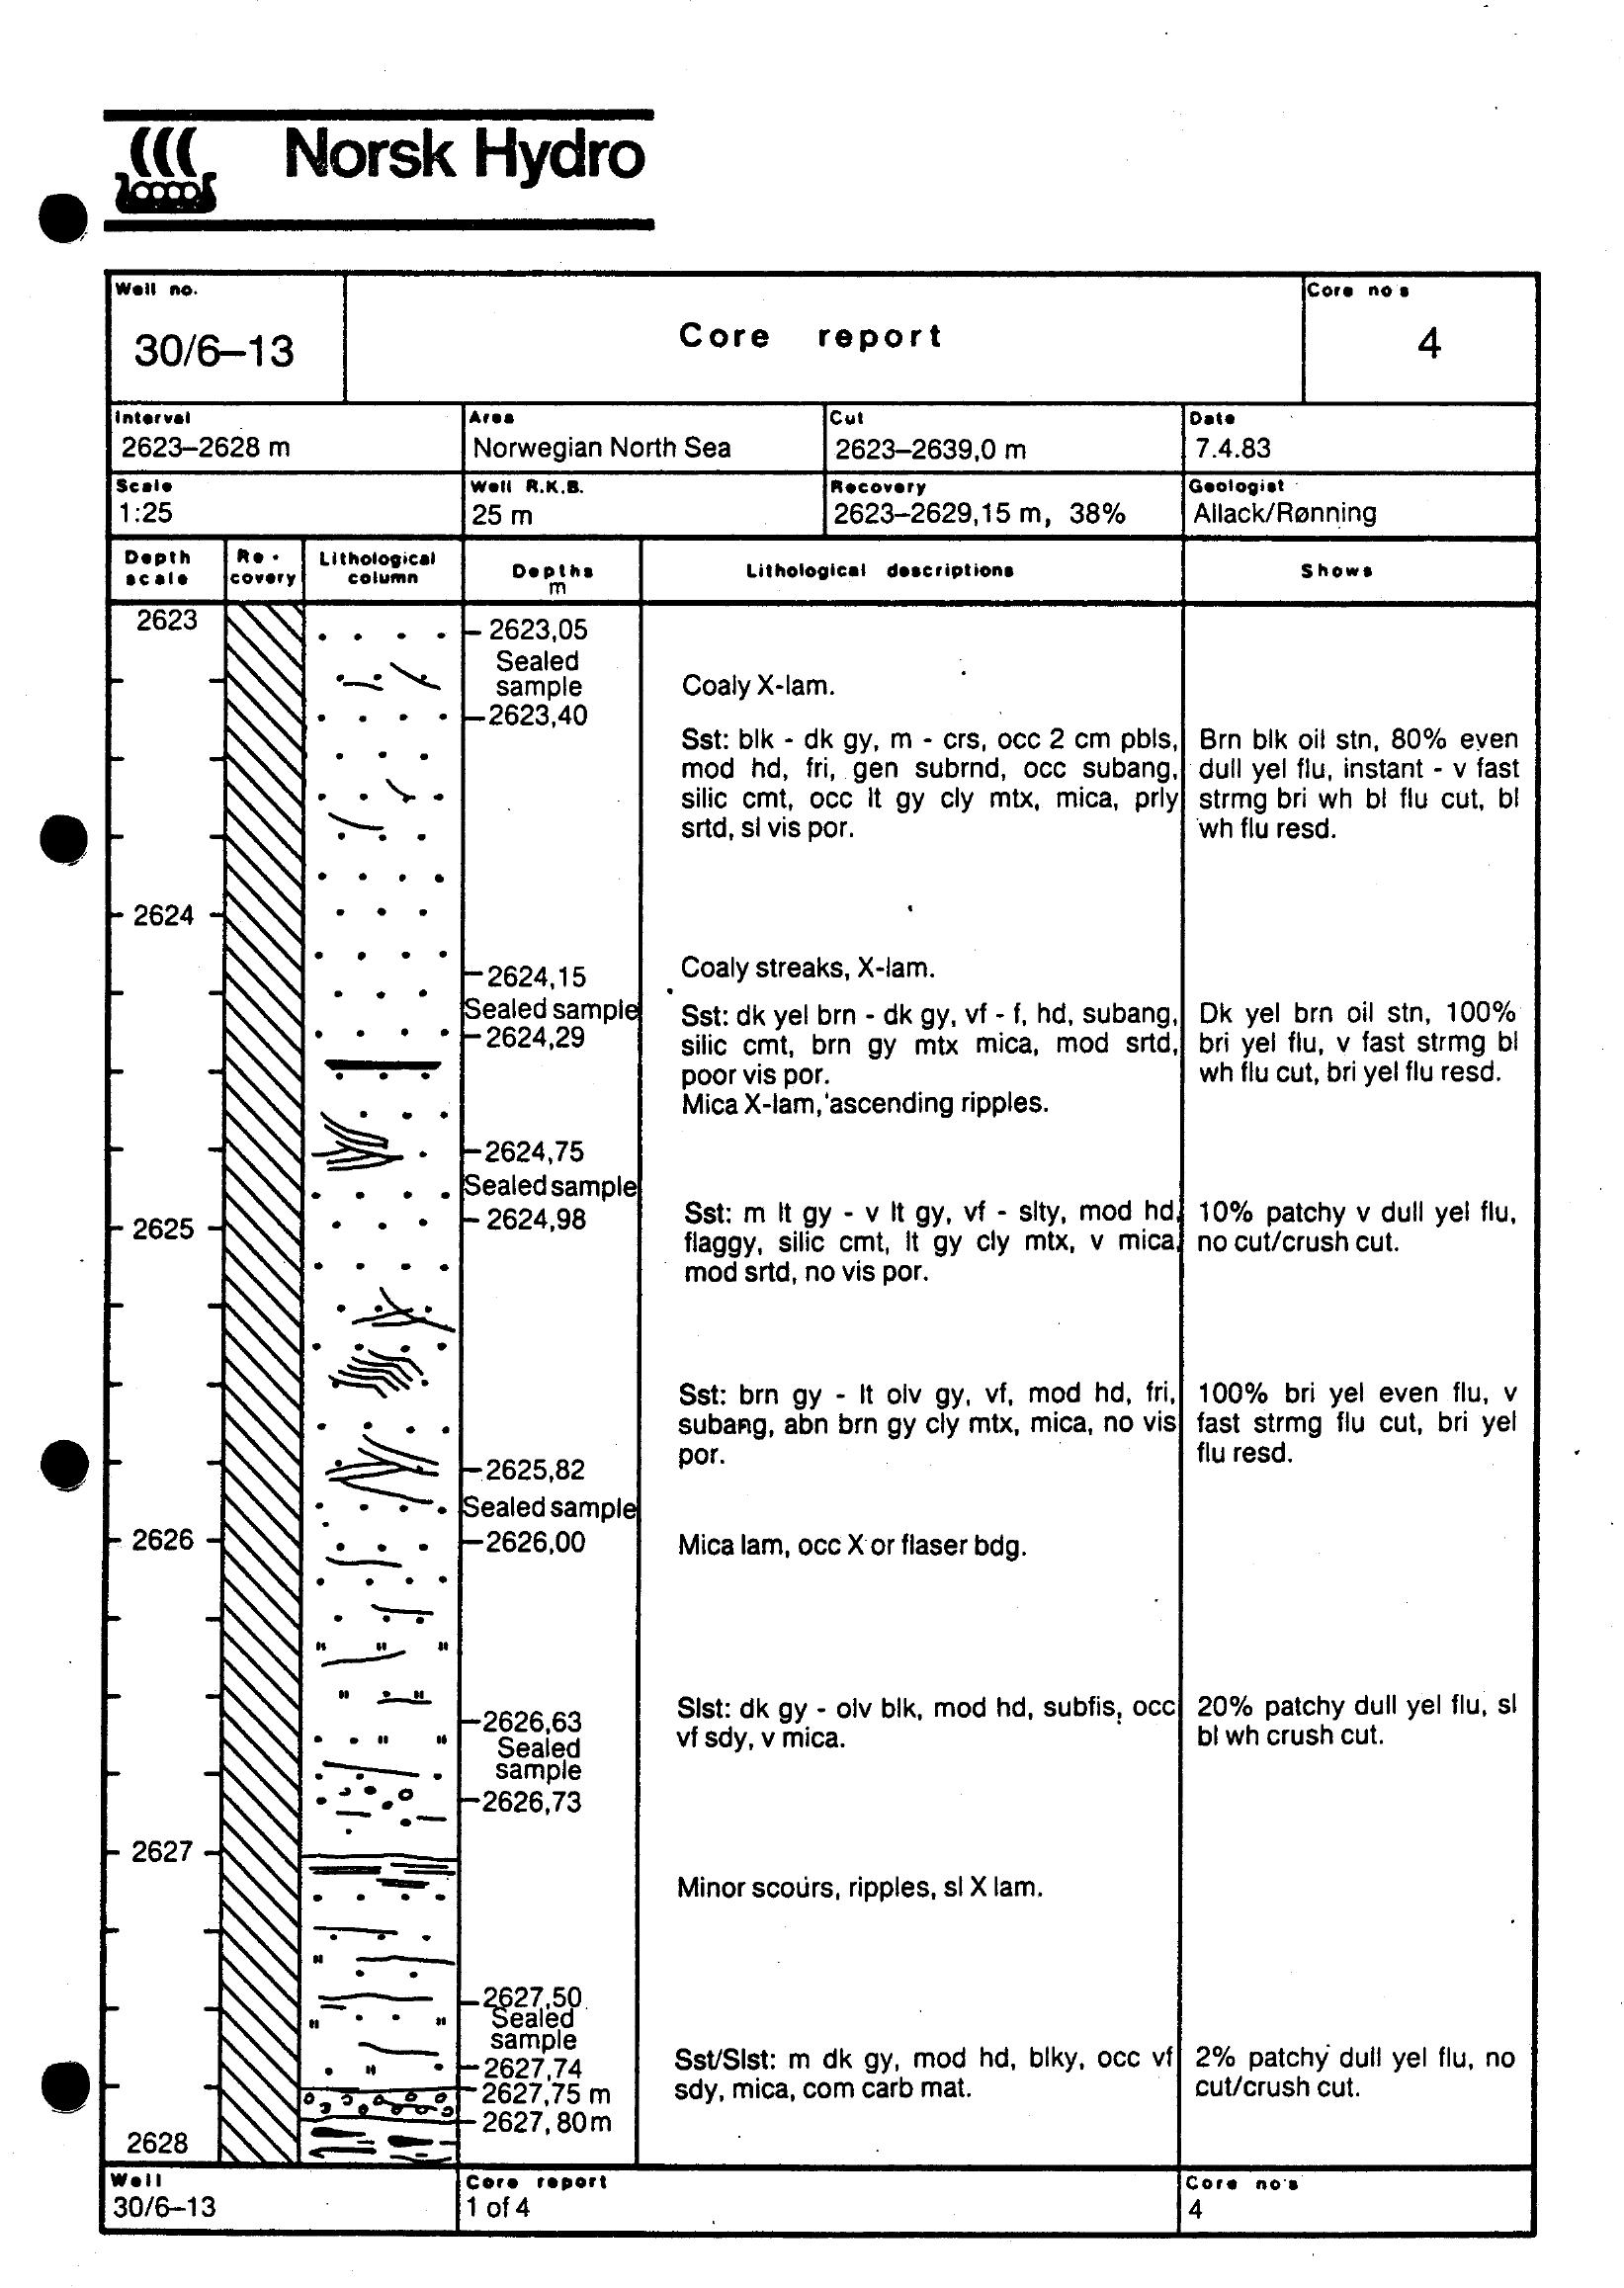graph: (90, 250, 1547, 2253)
undefined: (90, 84, 703, 248)
